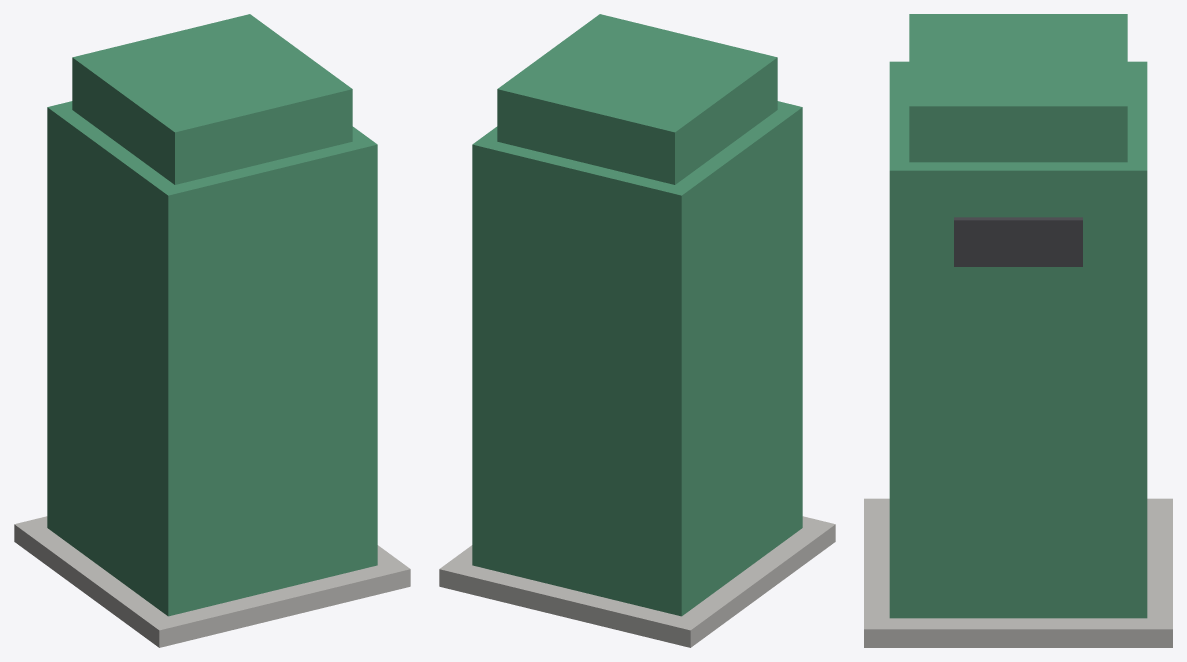
Rendered from SM_Prop_OutdoorBin.glb.
The picture shows the model from 3 angles, left to right: view 1: azimuth 30°, elevation 25°; view 2: azimuth 150°, elevation 25°; view 3: azimuth 270°, elevation 25°; orthographic projection. The views are drawn at different scales.
Parts seen in each view (by area): view 1: SM_Prop_OutdoorBin; view 2: SM_Prop_OutdoorBin; view 3: SM_Prop_OutdoorBin.
Part boxes in pixels (bbox=[...]): SM_Prop_OutdoorBin: bbox=[14, 14, 410, 647]; SM_Prop_OutdoorBin: bbox=[439, 14, 835, 647]; SM_Prop_OutdoorBin: bbox=[864, 14, 1172, 647].
Size of the model in its own units: 0.6 by 1.12 by 0.6.
